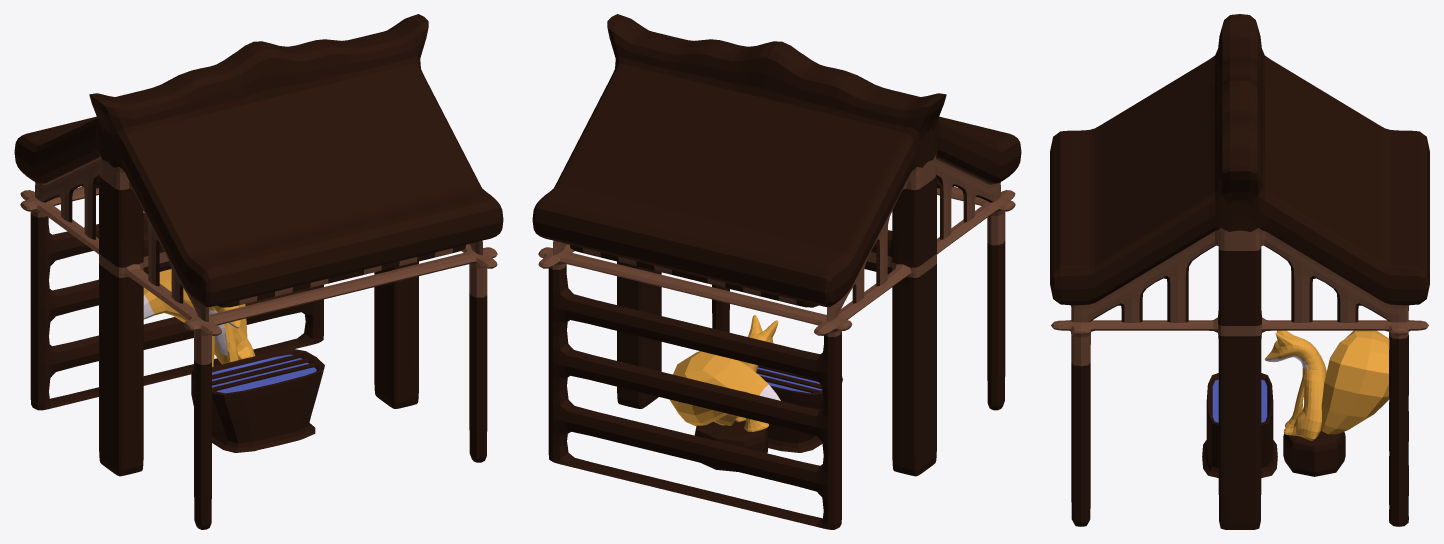
File: Temizuya.fbx
3 views of the same model, side by side, from view 1: azimuth 30°, elevation 25°; view 2: azimuth 150°, elevation 25°; view 3: azimuth 270°, elevation 25° (orthographic). The views are drawn at different scales.
Parts seen in each view (by area): view 1: Roof, Piller, Timetzuya, Fox, Sticks, Water.001; view 2: Roof, Piller, Fox, Timetzuya, Sticks; view 3: Roof, Piller, Fox, Timetzuya, Water.001.
Boxes of the visible parts, x1=… form: Roof: x1=14, y1=14, x2=503, y2=322; Piller: x1=20, y1=175, x2=497, y2=529; Timetzuya: x1=191, y1=349, x2=324, y2=452; Fox: x1=143, y1=269, x2=255, y2=366; Sticks: x1=212, y1=354, x2=316, y2=392; Water.001: x1=212, y1=354, x2=316, y2=393; Roof: x1=532, y1=14, x2=1021, y2=322; Piller: x1=538, y1=175, x2=1015, y2=529; Fox: x1=669, y1=315, x2=780, y2=431; Timetzuya: x1=694, y1=377, x2=842, y2=471; Sticks: x1=756, y1=365, x2=822, y2=392; Roof: x1=1050, y1=14, x2=1429, y2=322; Piller: x1=1051, y1=247, x2=1428, y2=529; Fox: x1=1264, y1=330, x2=1389, y2=440; Timetzuya: x1=1202, y1=373, x2=1345, y2=477; Water.001: x1=1212, y1=379, x2=1267, y2=422.
Bounding box in the file's own units: 439 × 494 × 448.
